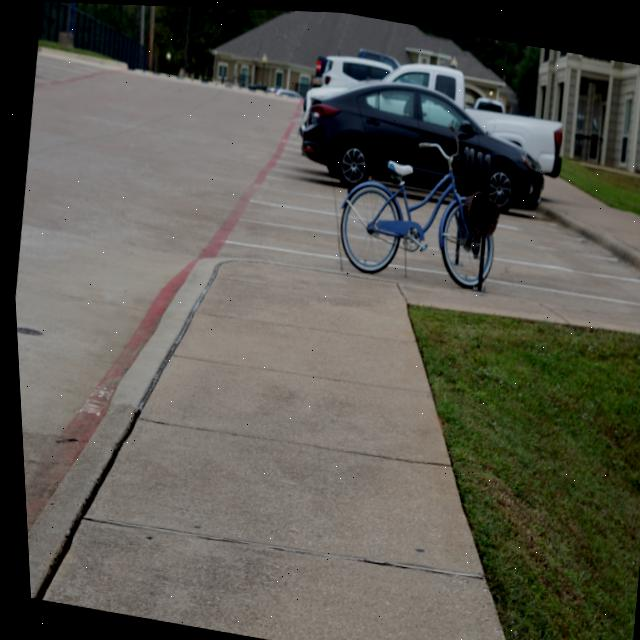Automobile: (298, 79, 468, 186), (459, 115, 542, 209), (464, 95, 562, 172), (383, 60, 464, 105), (322, 56, 390, 85)
Obstacle: (337, 139, 490, 284)
Road: (12, 49, 324, 533), (486, 207, 640, 301)
Sidewalk: (22, 255, 640, 640), (540, 177, 640, 261)
